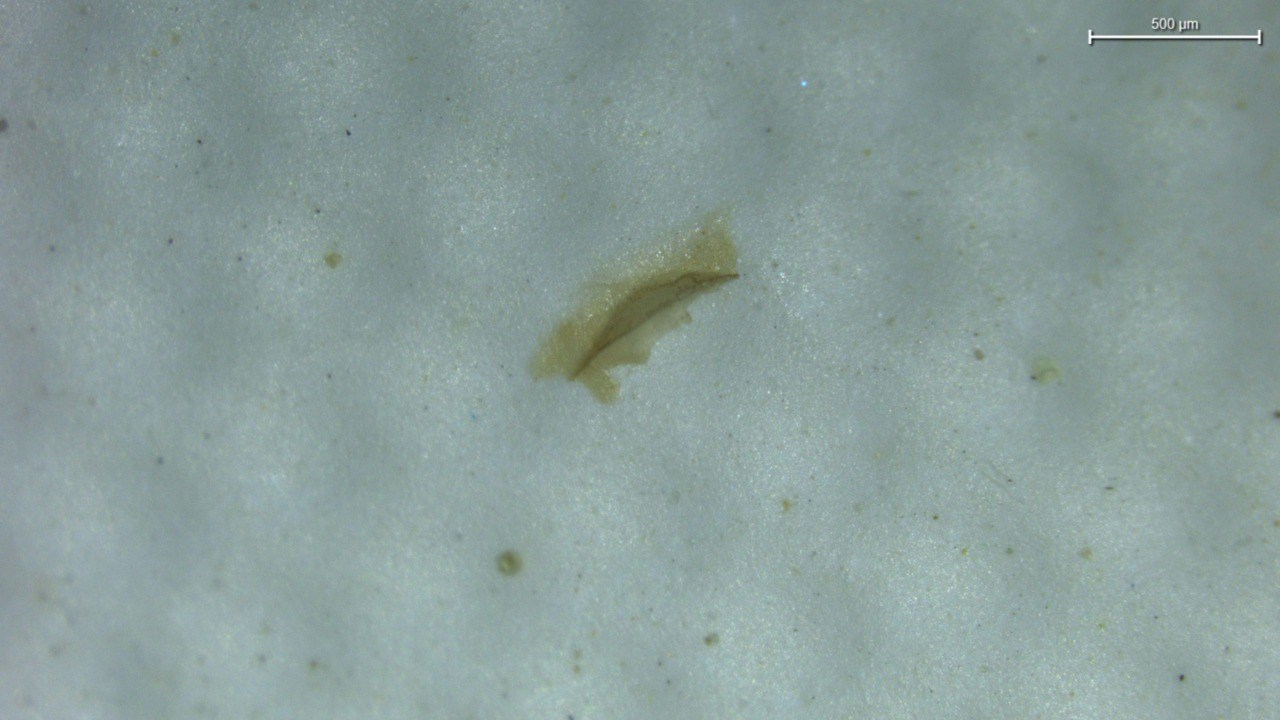microplastic_fragment: (531, 210, 738, 403)
